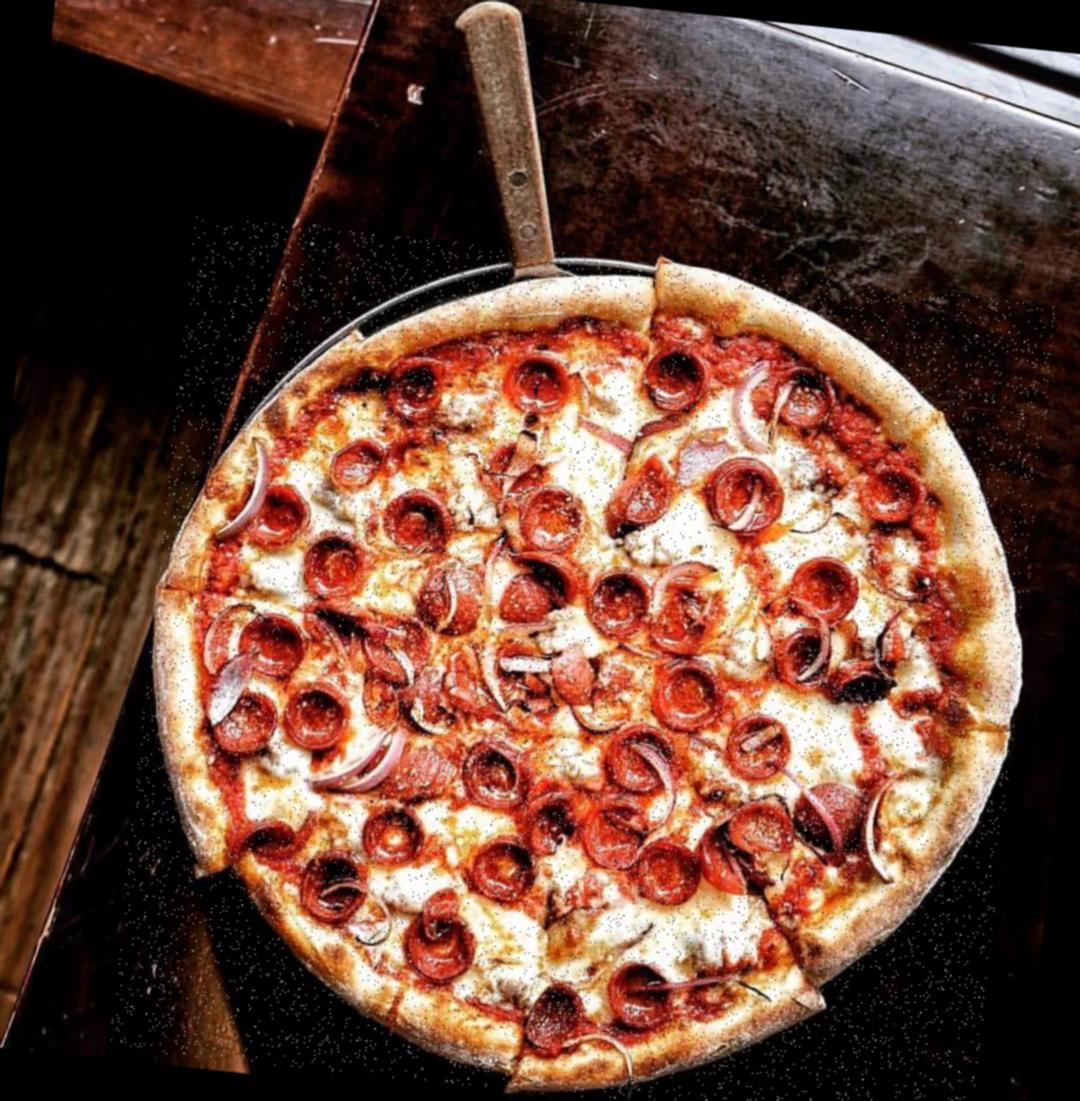Onion: (308, 716, 411, 803), (206, 434, 272, 550), (860, 766, 909, 886), (726, 358, 769, 454), (202, 605, 257, 678), (474, 650, 514, 712), (400, 695, 454, 740), (493, 649, 558, 681)
Pepperoni: (702, 454, 784, 538), (401, 905, 478, 986), (649, 660, 731, 733), (650, 570, 718, 656), (602, 722, 682, 795), (500, 552, 572, 632), (294, 852, 369, 927), (473, 433, 548, 507), (377, 491, 462, 555), (416, 562, 488, 637), (459, 736, 531, 811), (578, 795, 647, 872), (584, 566, 652, 644), (798, 778, 870, 851), (637, 344, 712, 414), (502, 345, 576, 415), (694, 826, 768, 896), (282, 684, 354, 755), (516, 487, 590, 556), (602, 962, 674, 1032), (725, 711, 792, 785), (522, 984, 588, 1059), (468, 834, 542, 900), (764, 362, 835, 430), (790, 552, 858, 621), (362, 615, 434, 680), (302, 532, 372, 598), (240, 613, 311, 678), (725, 795, 803, 854), (386, 354, 449, 425), (438, 652, 504, 719), (208, 690, 276, 755), (859, 460, 927, 524), (356, 807, 426, 869), (246, 485, 309, 552), (522, 793, 584, 859), (616, 453, 673, 524), (637, 838, 699, 903), (308, 591, 382, 640), (550, 644, 603, 708), (326, 434, 384, 492), (774, 628, 829, 688), (359, 676, 405, 732), (829, 657, 892, 697), (594, 654, 637, 702)
Pizza: (107, 215, 1057, 1101)
